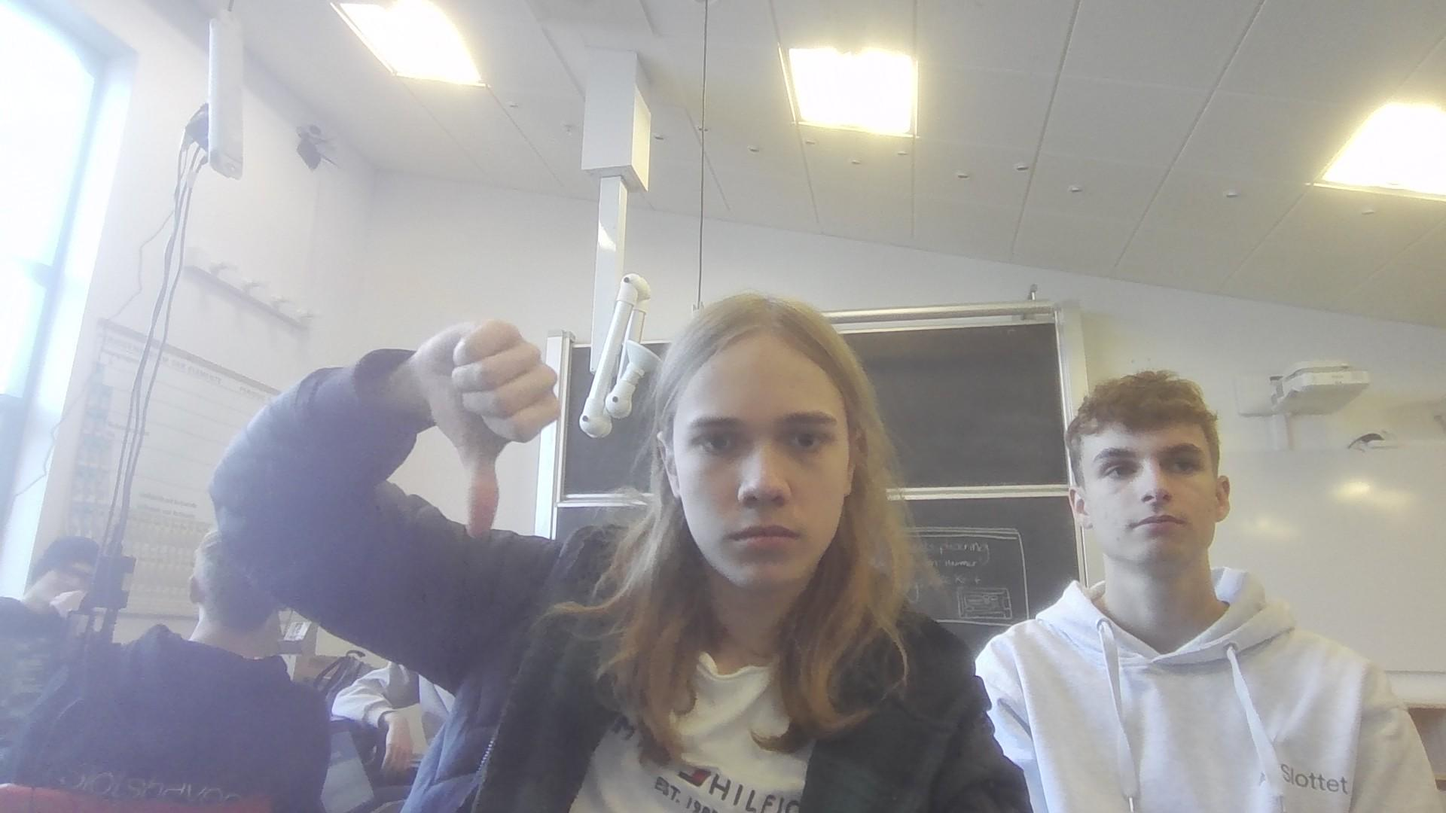thumbs down: (399, 307, 567, 553)
